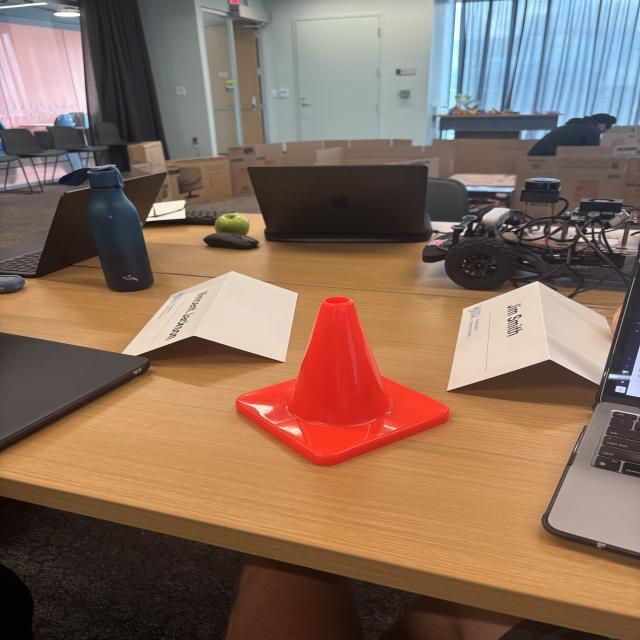Traffic Cone: (237, 294, 454, 471)
